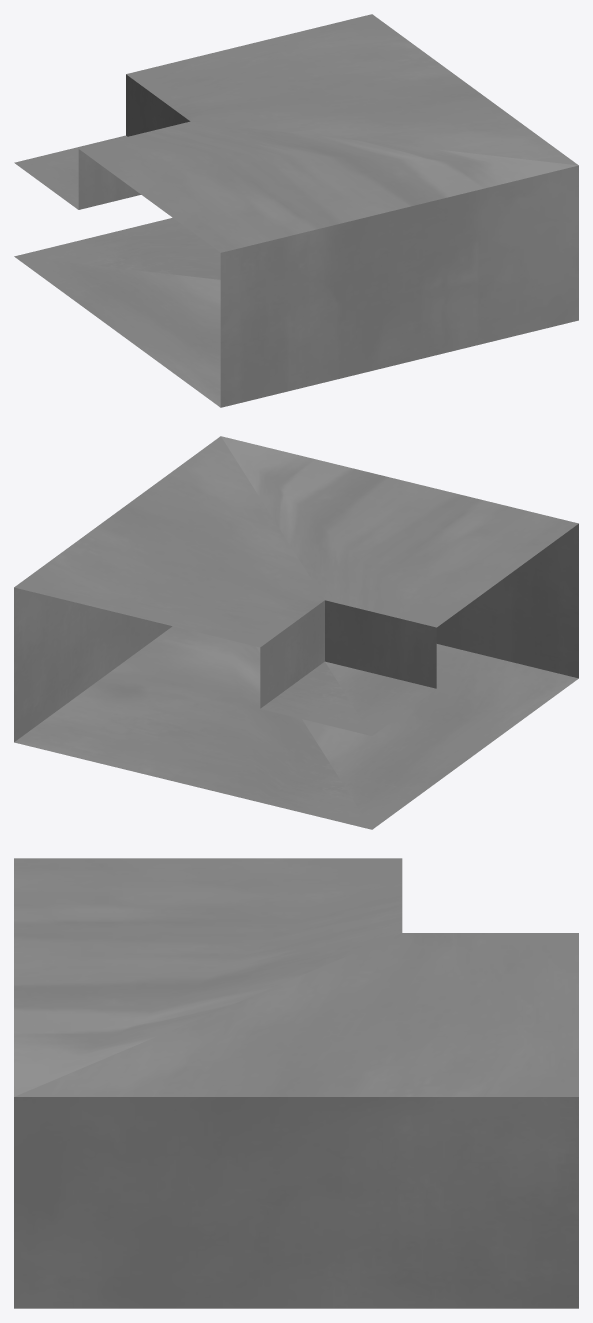
Rendered from Corner_Teto_B.fbx.
3 renders of one model, top to bottom at view 1: azimuth 30°, elevation 25°; view 2: azimuth 150°, elevation 25°; view 3: azimuth 270°, elevation 25°, orthographic. The views are drawn at different scales.
Visible parts, largest first — view 1: Cube.023; view 2: Cube.023; view 3: Cube.023.
Part boxes in pixels (bbox=[...]): Cube.023: bbox=[14, 14, 578, 407]; Cube.023: bbox=[14, 436, 578, 829]; Cube.023: bbox=[14, 858, 578, 1308].
Size of the model in its own units: 80 by 33.08 by 80.
